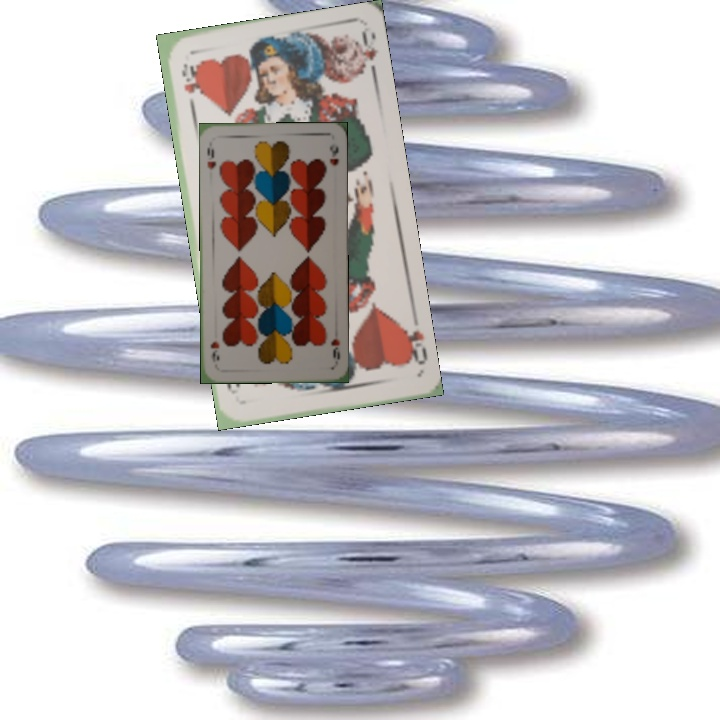H9: (203, 143, 219, 172), (327, 335, 342, 362)
HO: (396, 317, 430, 368), (177, 59, 199, 114)
